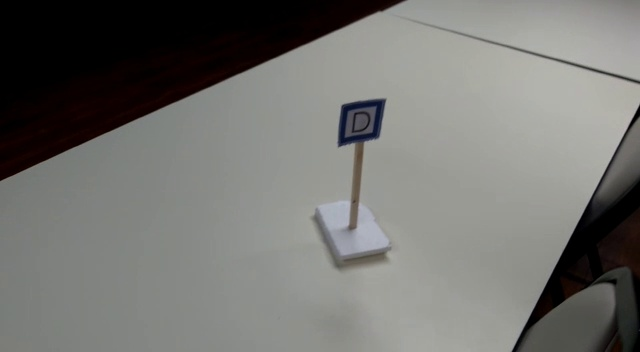durak: (336, 98, 388, 146)
